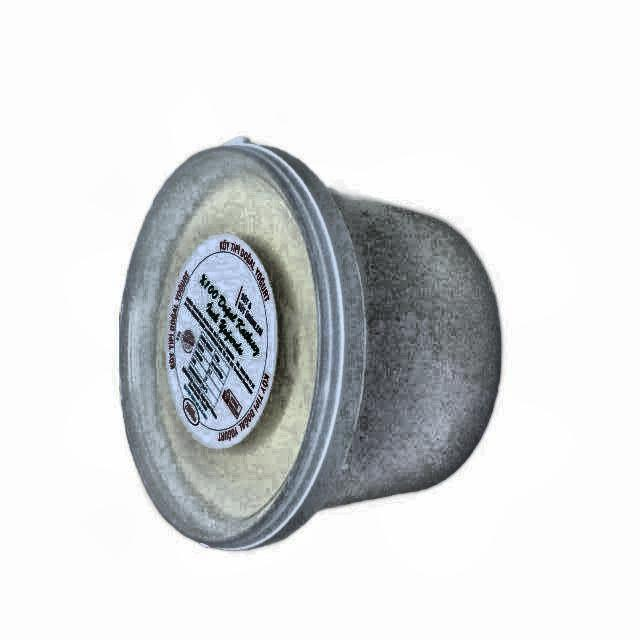plastic: (120, 139, 501, 549)
